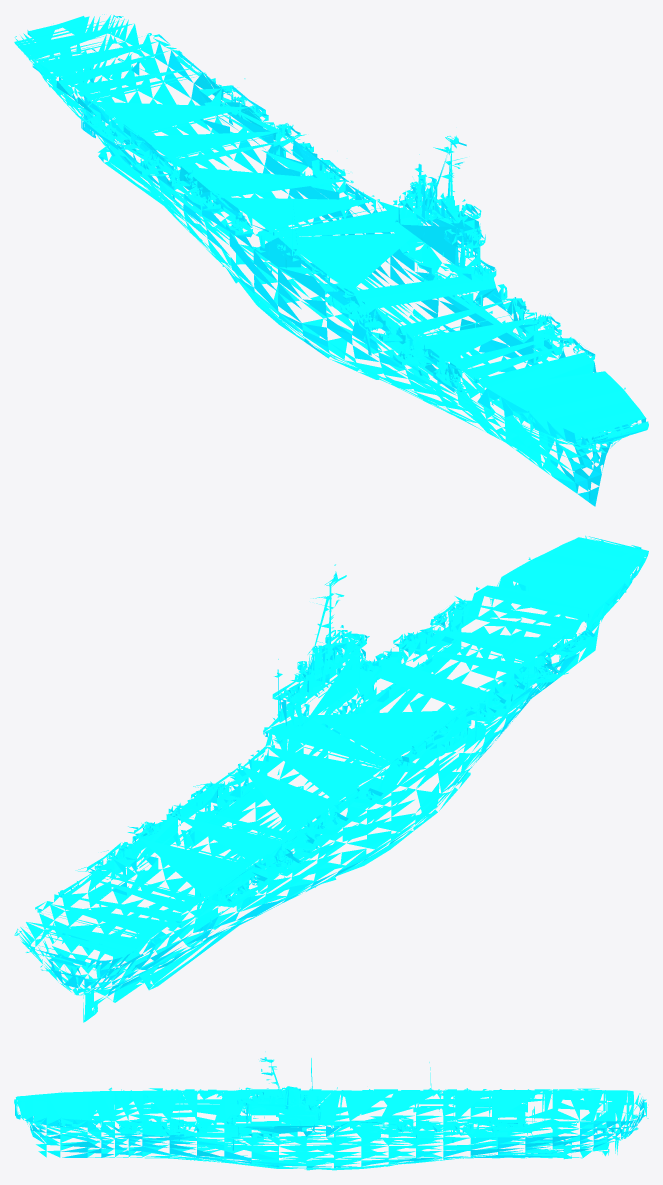
Rendered from Colossus.glb.
3 views of the same model, one above another, from view 1: azimuth 30°, elevation 25°; view 2: azimuth 150°, elevation 25°; view 3: azimuth 270°, elevation 25° (orthographic). The views are drawn at different scales.
Size of the model in its own units: 2.55 by 3.02 by 14.16.
